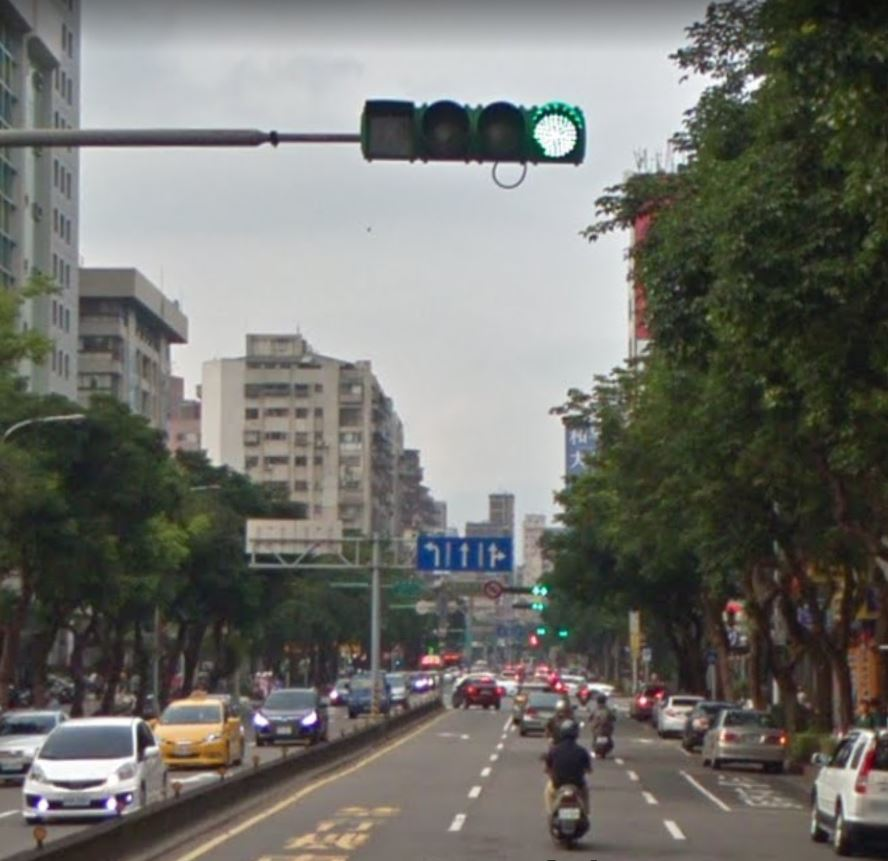Traffic_light_green: (357, 93, 589, 176)
car: (18, 710, 171, 817), (149, 681, 247, 773), (247, 682, 335, 746)
motorcycle: (538, 752, 600, 841)
